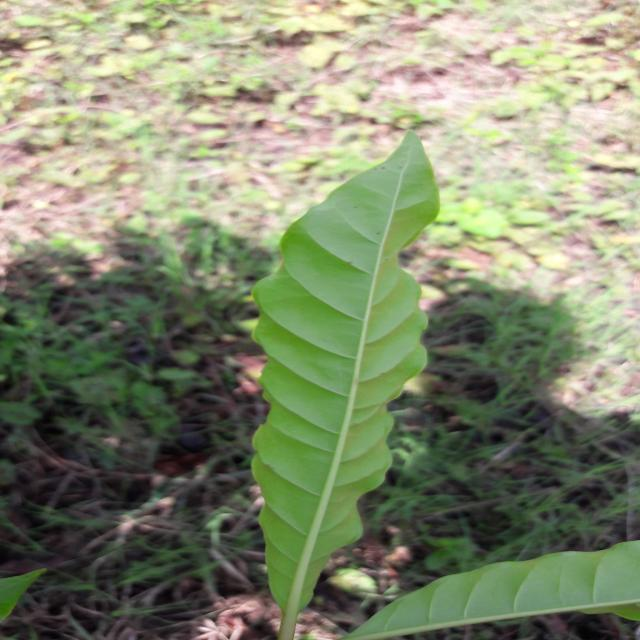Sanas: (250, 132, 440, 640)
